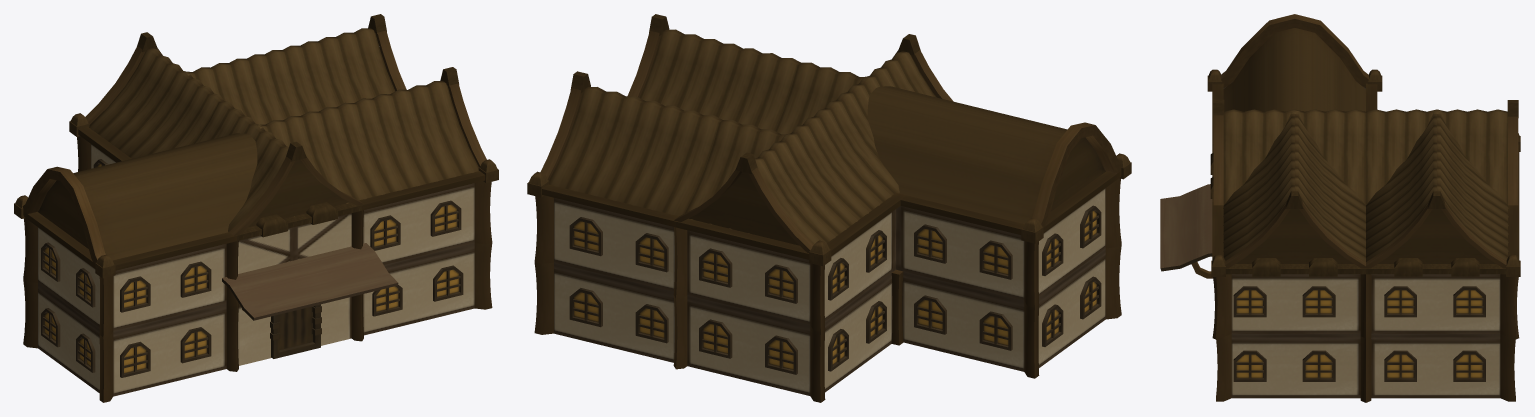
File: store.obj
3 renders of one model, left to right at view 1: azimuth 30°, elevation 25°; view 2: azimuth 150°, elevation 25°; view 3: azimuth 270°, elevation 25°, orthographic. The views are drawn at different scales.
Visible parts, largest first — view 1: obj1; view 2: obj1; view 3: obj1.
Part boxes in pixels (bbox=[...]): obj1: bbox=[14, 14, 498, 402]; obj1: bbox=[527, 14, 1131, 402]; obj1: bbox=[1160, 14, 1520, 402].
Size of the model in its own units: 0.2002 by 0.1009 by 0.1592.
1 material, 1 textured.
